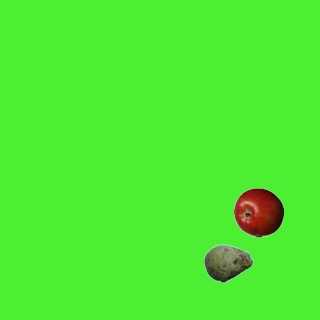Apple Braeburn: (233, 187, 283, 237)
Pear Stone: (203, 238, 253, 288)
